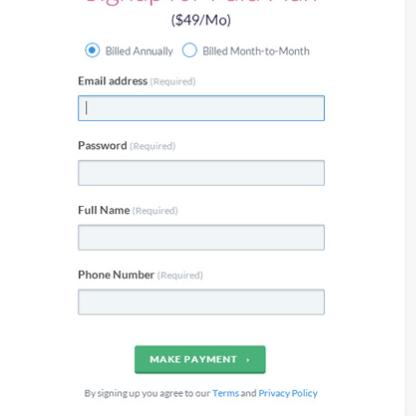button: (134, 344, 267, 375)
field: (75, 93, 326, 123), (74, 223, 328, 252), (76, 287, 327, 316), (75, 159, 327, 187)
field_with_label: (73, 75, 327, 125), (72, 204, 329, 253), (73, 269, 330, 318), (73, 141, 328, 190)
radio: (179, 42, 198, 58), (84, 42, 100, 58)
radio_with_label: (177, 39, 310, 60), (80, 39, 173, 60)
